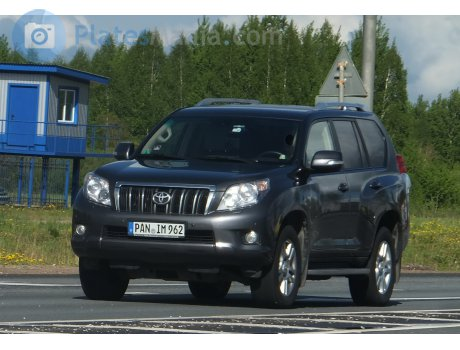License Plates: (131, 220, 186, 237)
